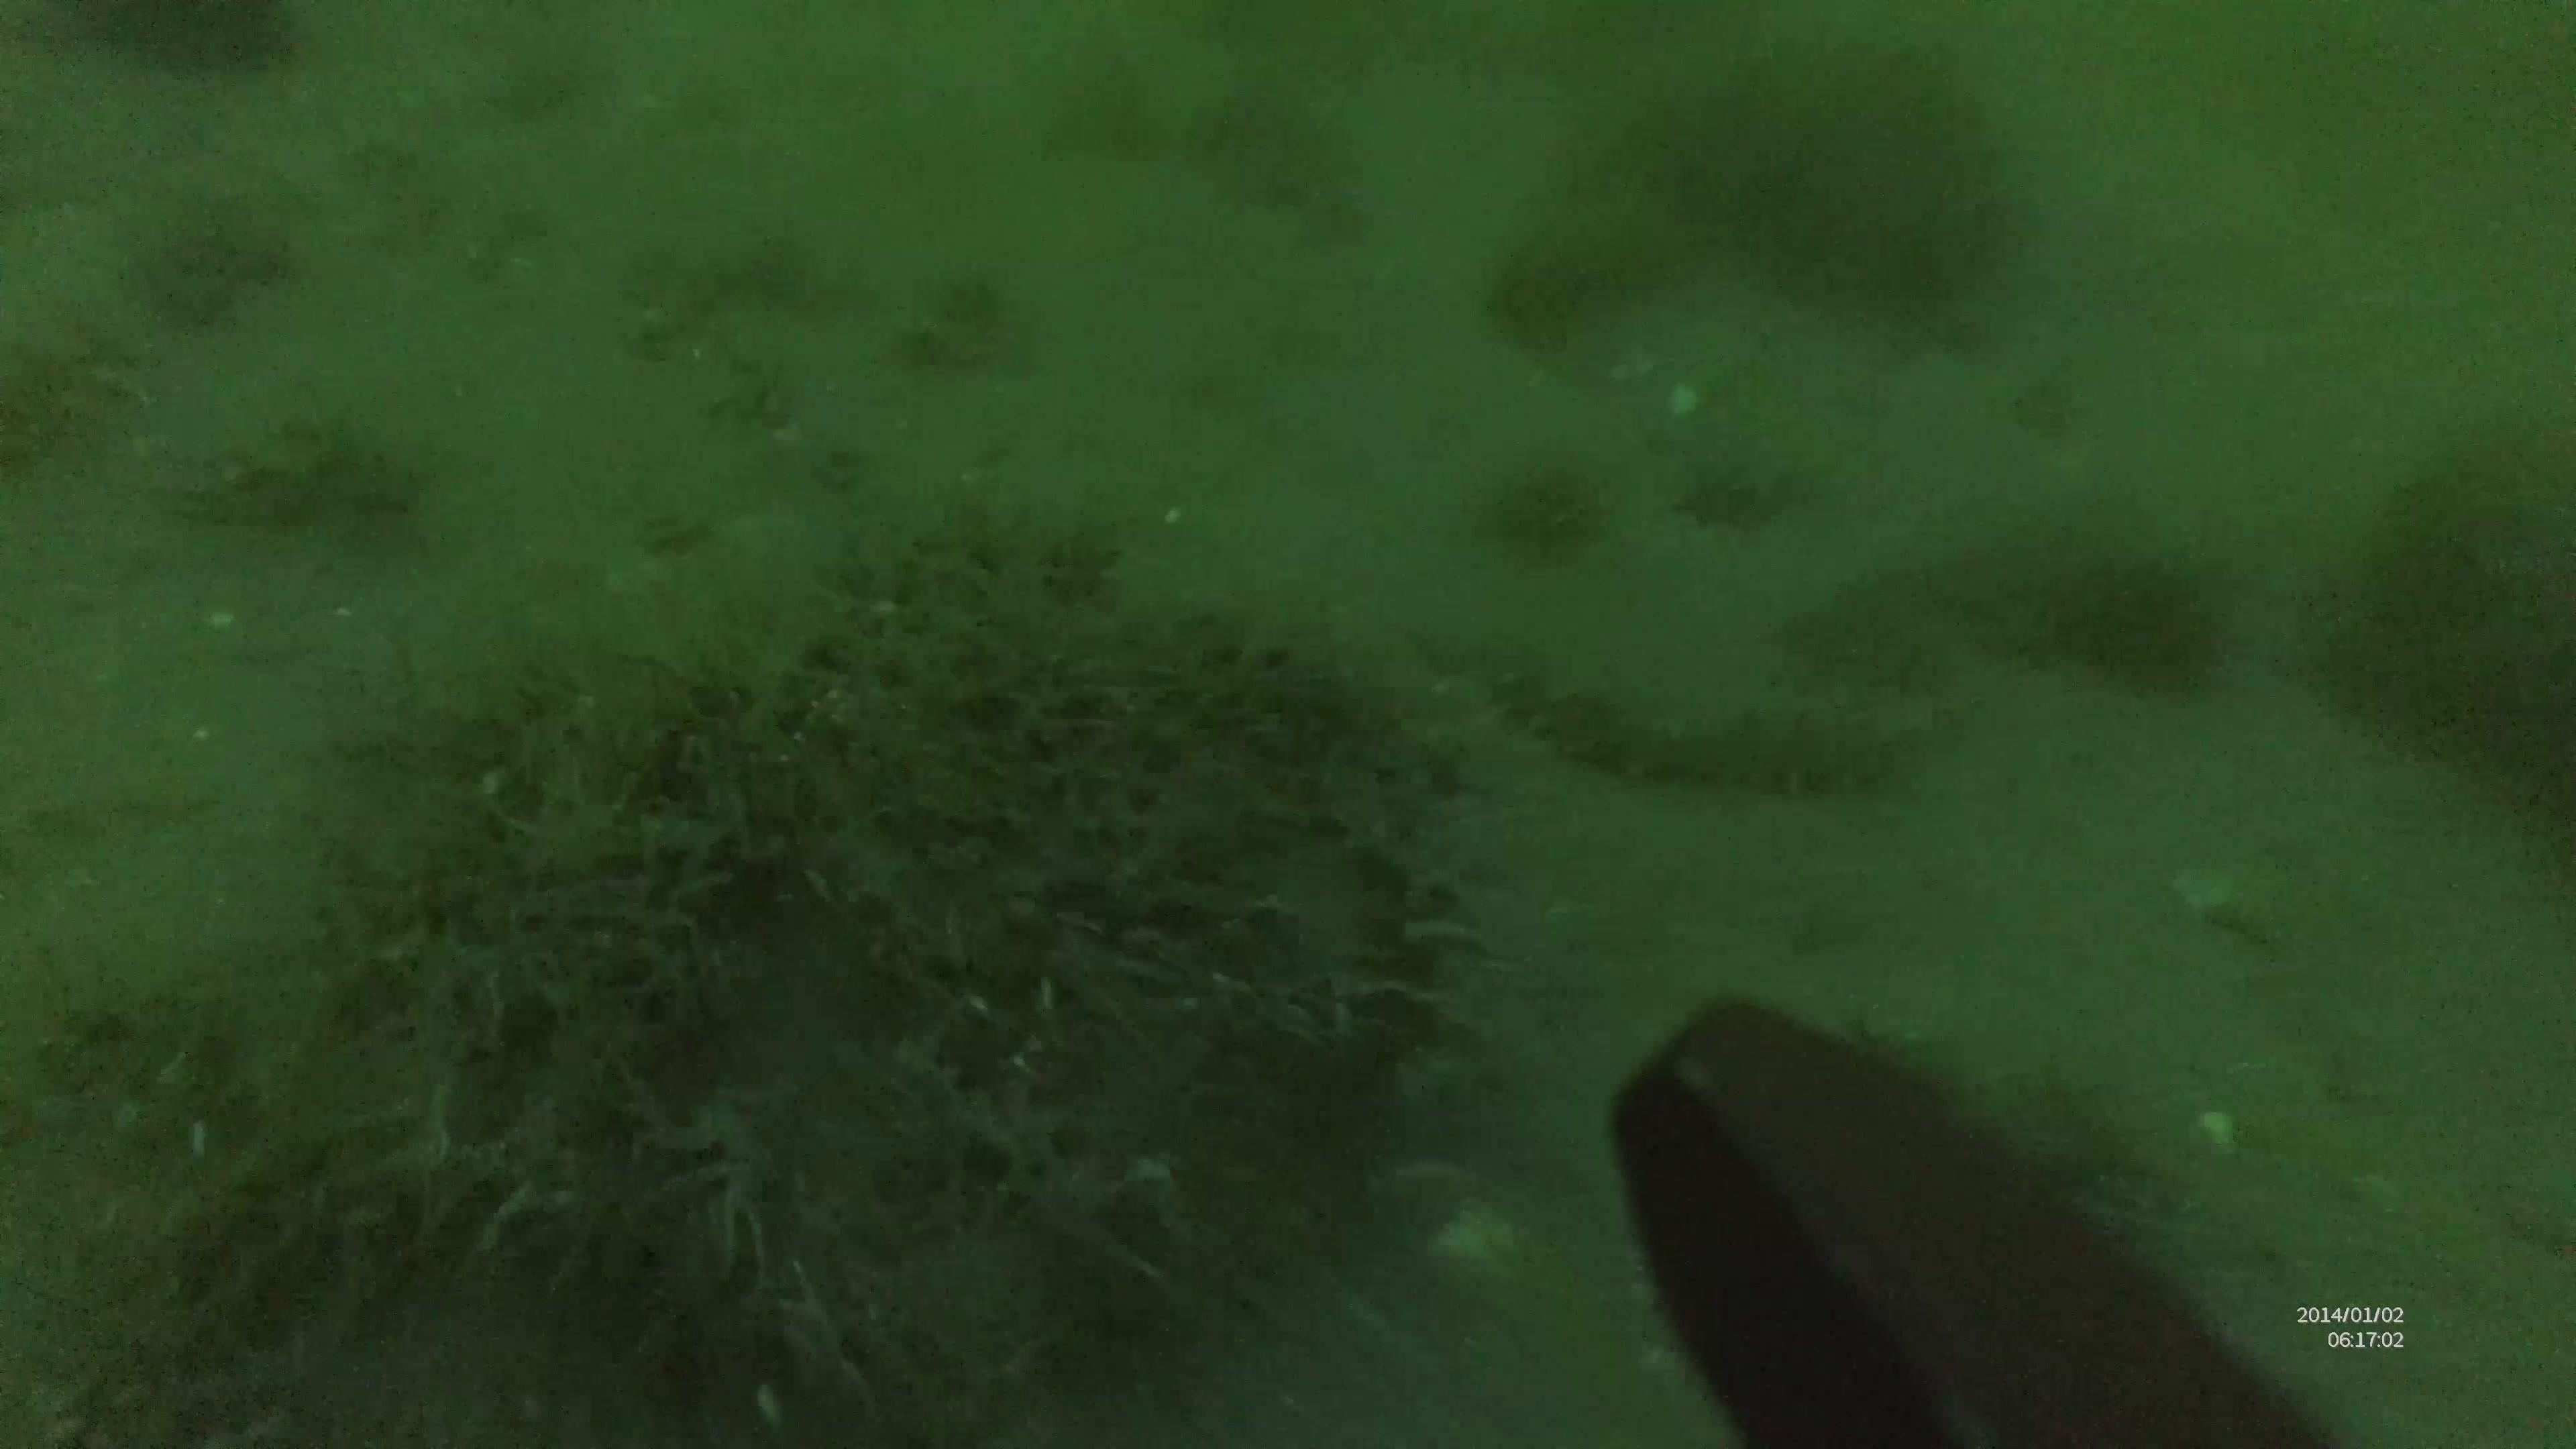holothurian: (1484, 646, 1932, 803)
